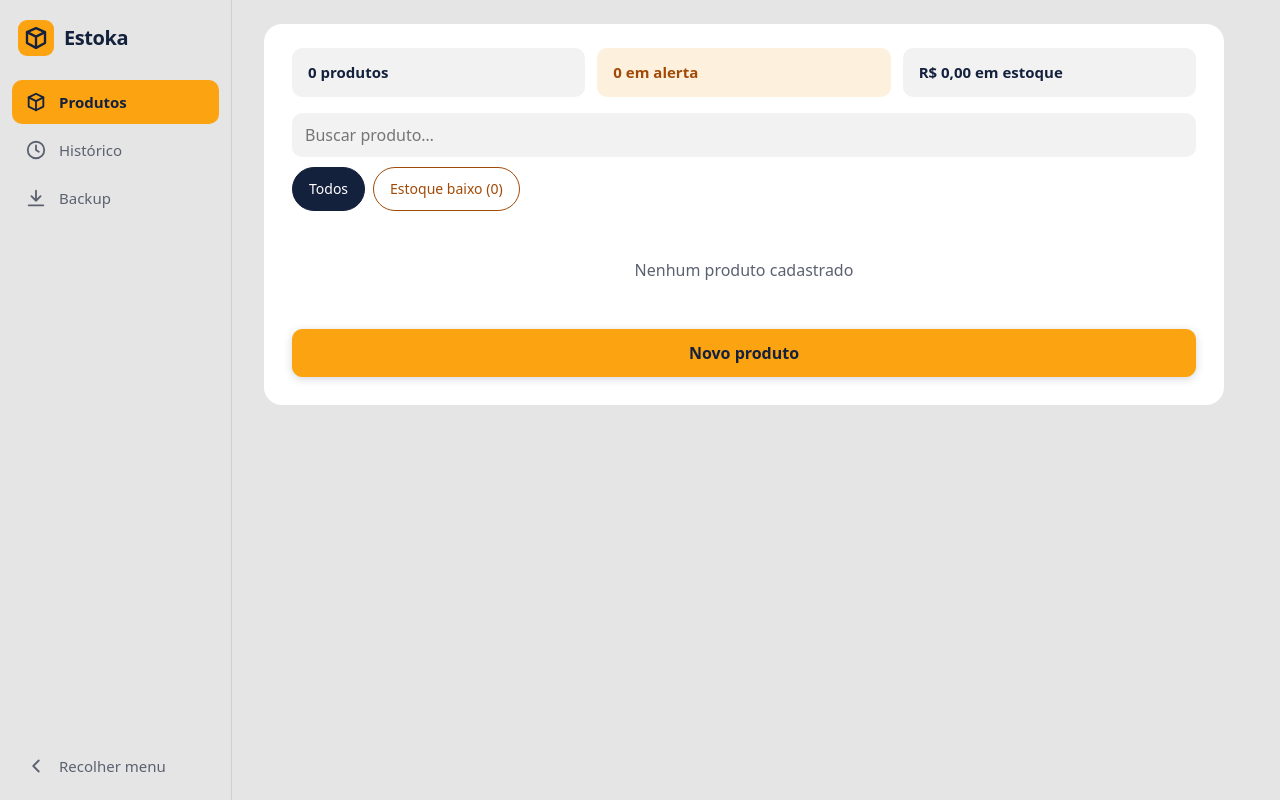
Scenario: cadastra um produto
The image size is (1280, 800).
Step 1. Click the button "Novo produto" → click(744, 353), box [292,329,1196,377]
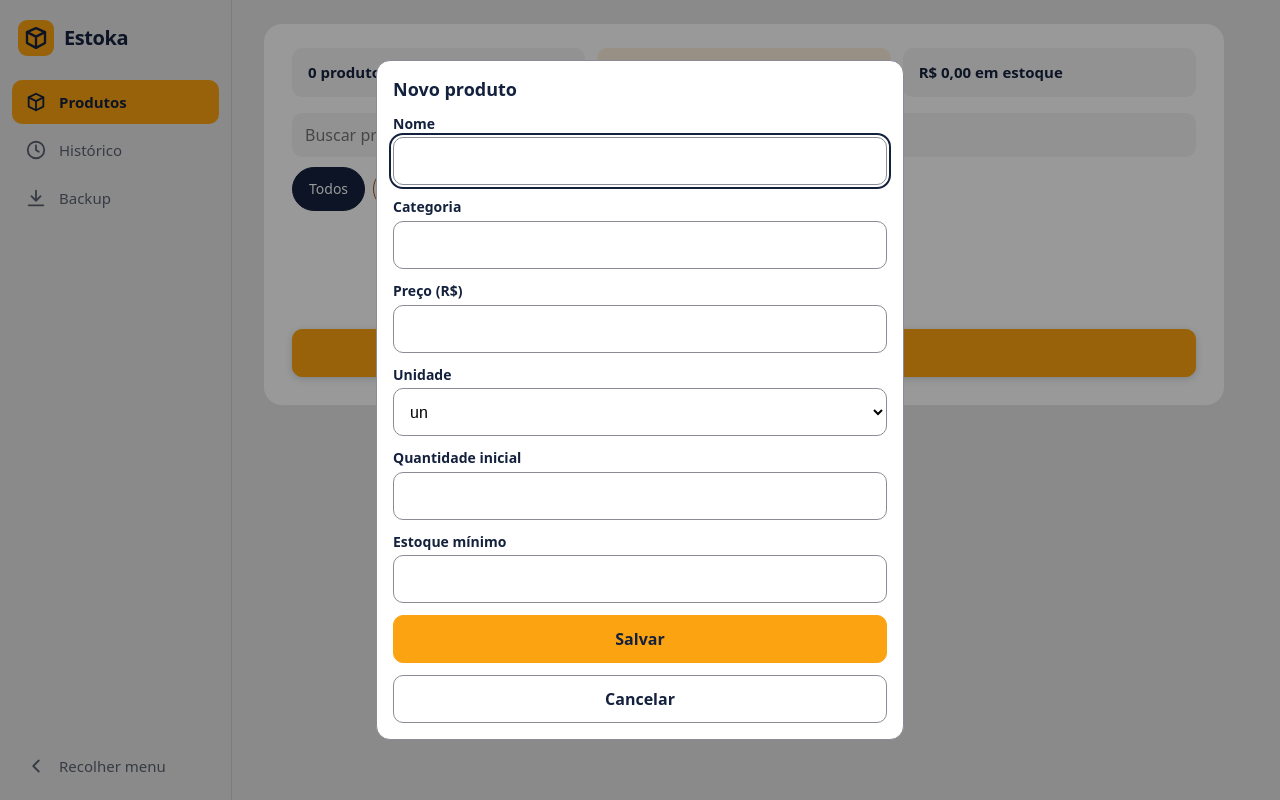
Step 2. Type "Arroz 5 kg" into the field labelled "Nome" → (640, 161), box [393,137,887,185]
Step 3. Type "Mercearia" into the field labelled "Categoria" → (640, 245), box [393,221,887,269]
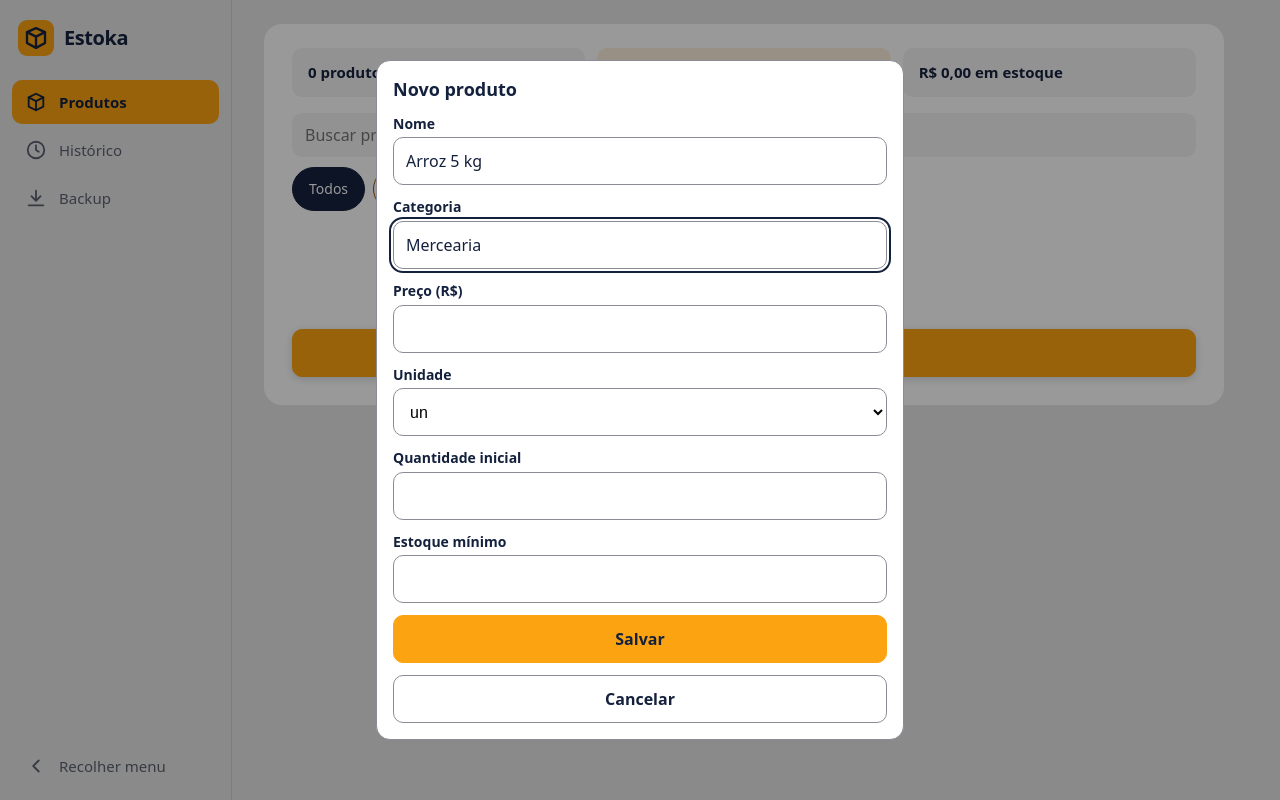
Step 4. Type "28,90" into the field labelled "Preço (R$)" → (640, 329), box [393,305,887,353]
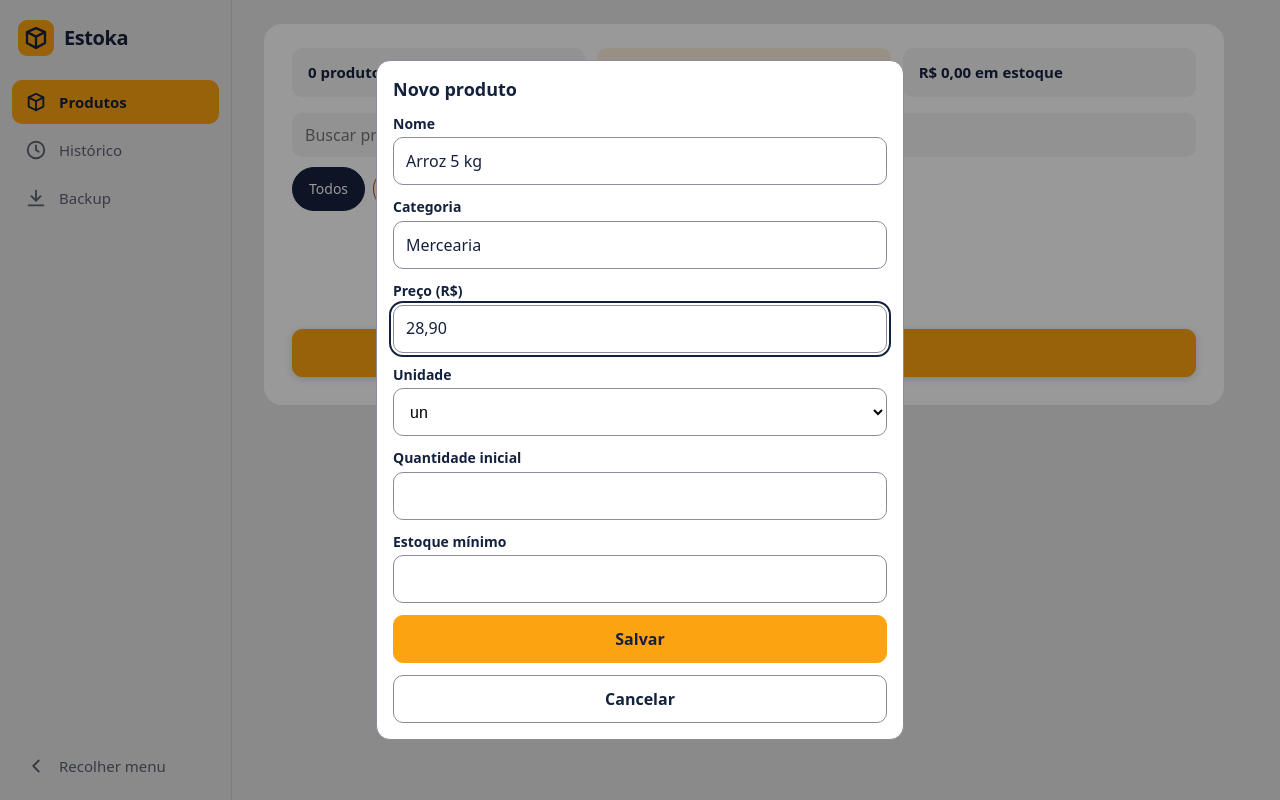
Step 5. Type "2" into the field labelled "Quantidade inicial" → (640, 496), box [393,472,887,520]
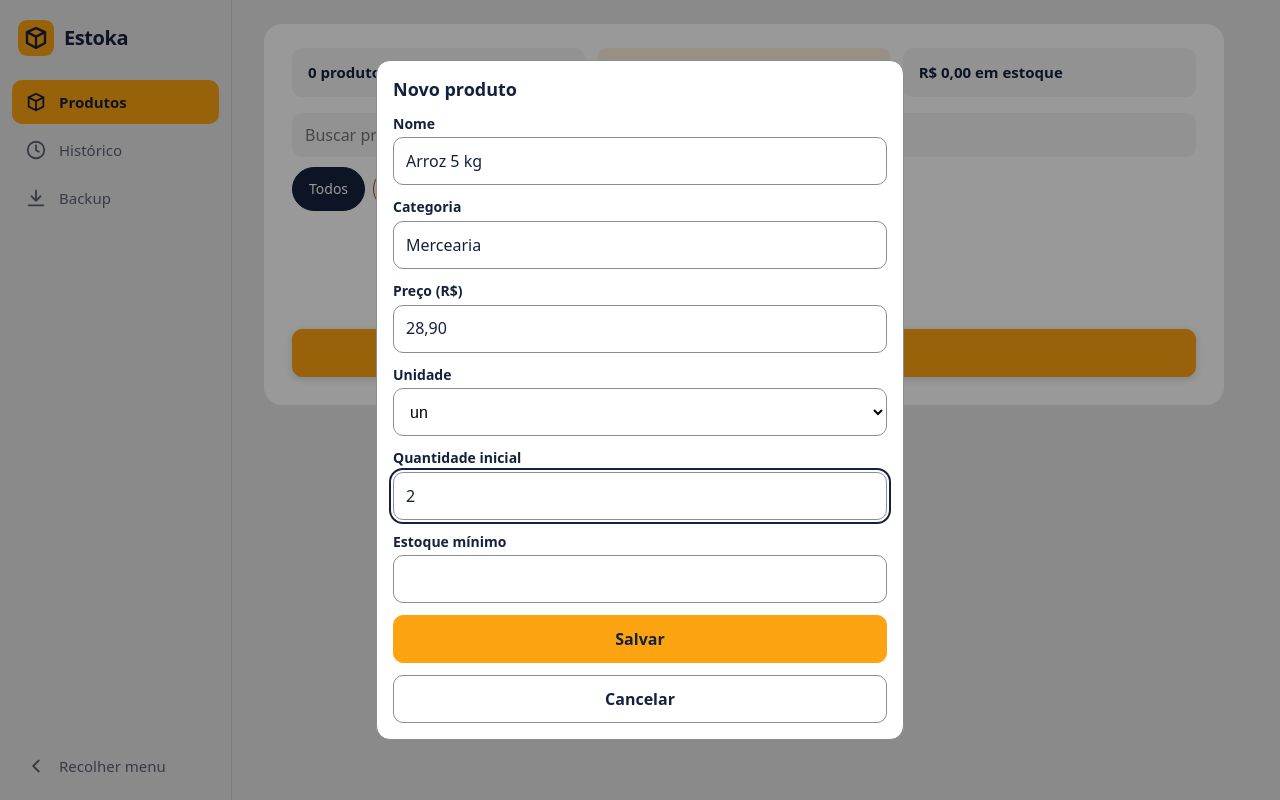
Step 6. Type "5" into the field labelled "Estoque mínimo" → (640, 579), box [393,555,887,603]
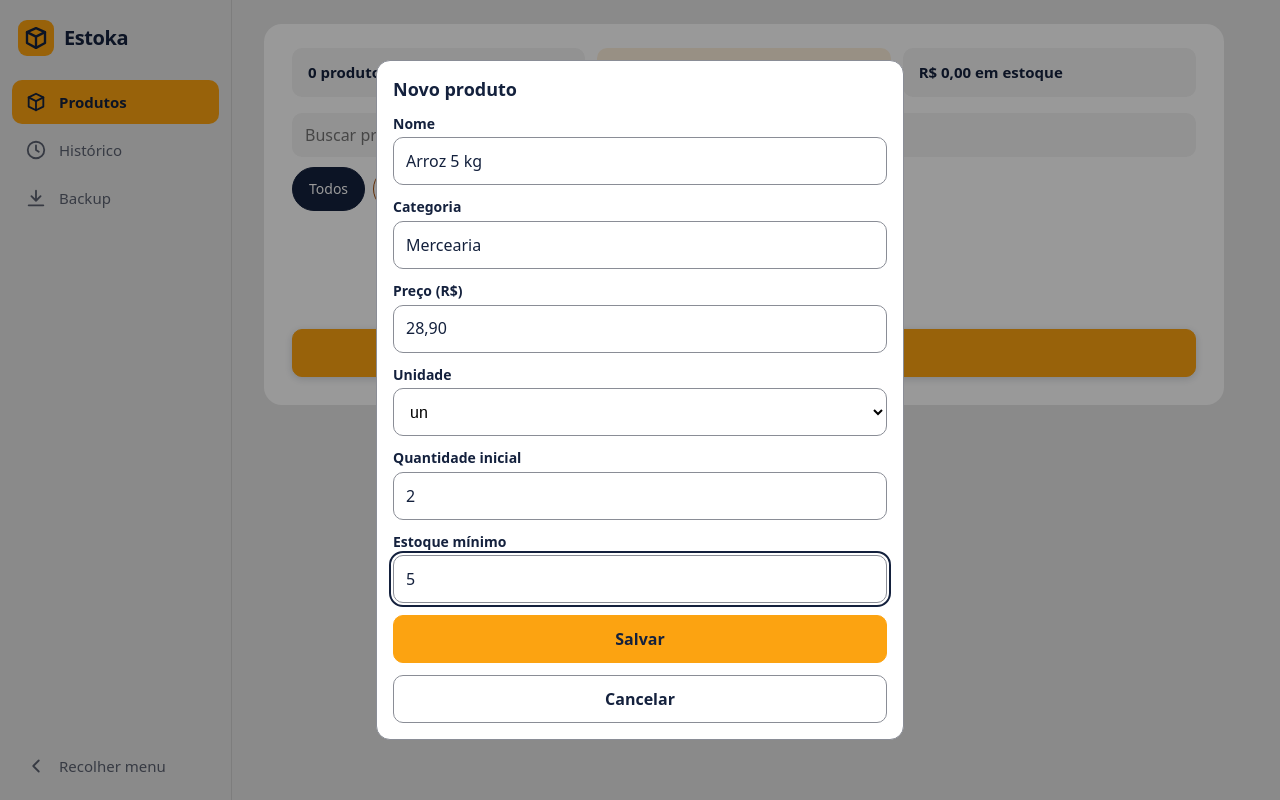
Step 7. Click the button "Salvar" → click(640, 639), box [393,615,887,663]
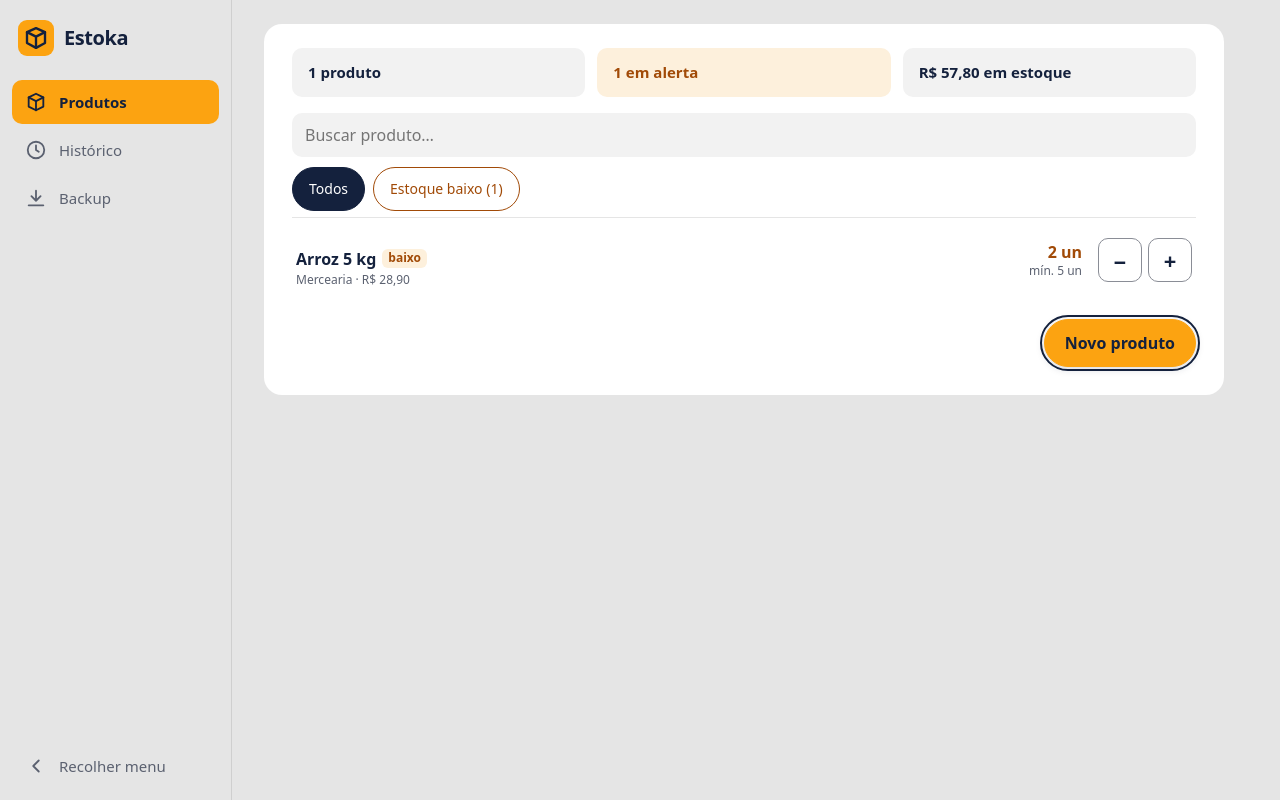
Result: the dialog is gone
Result: the button "Arroz 5 kg" is shown at [296,228,376,272]
Result: the text "2 un" is shown at [1048,241,1082,263]
